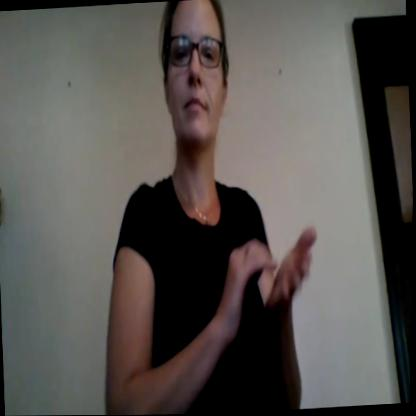ExcuseMe: (196, 198, 335, 363)
